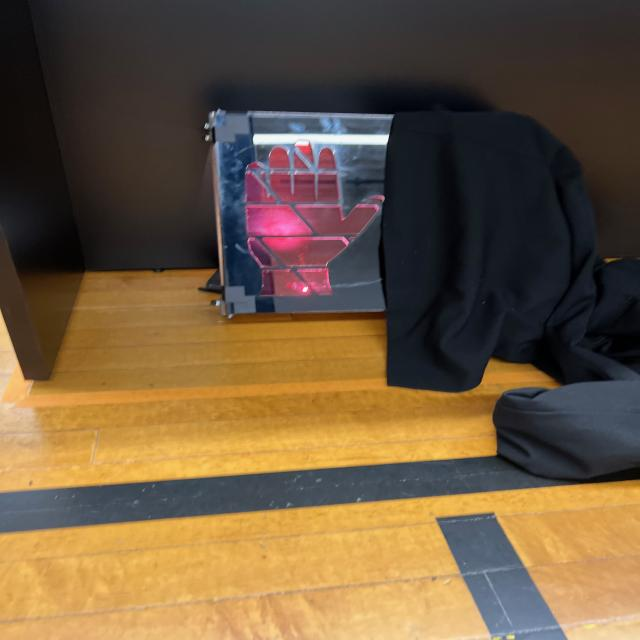stop: (221, 110, 386, 318)
